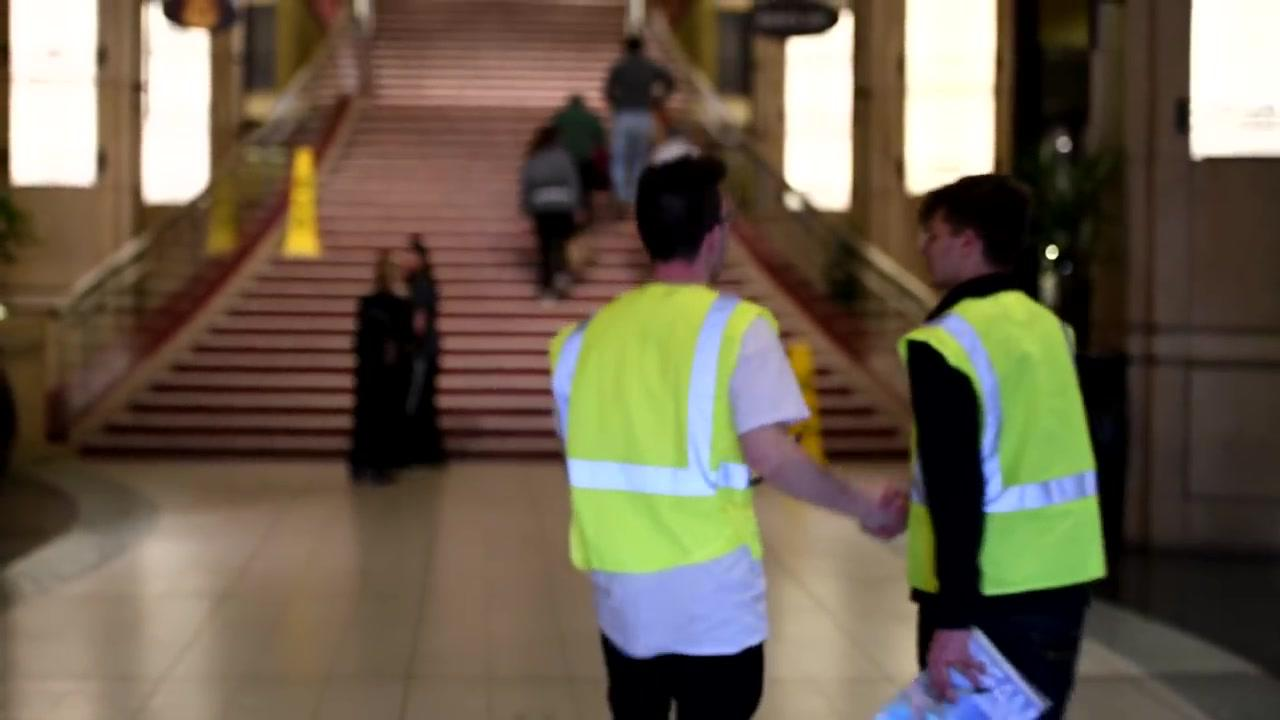Hi-Vis Jacket: (557, 290, 773, 581), (909, 299, 1112, 595)
